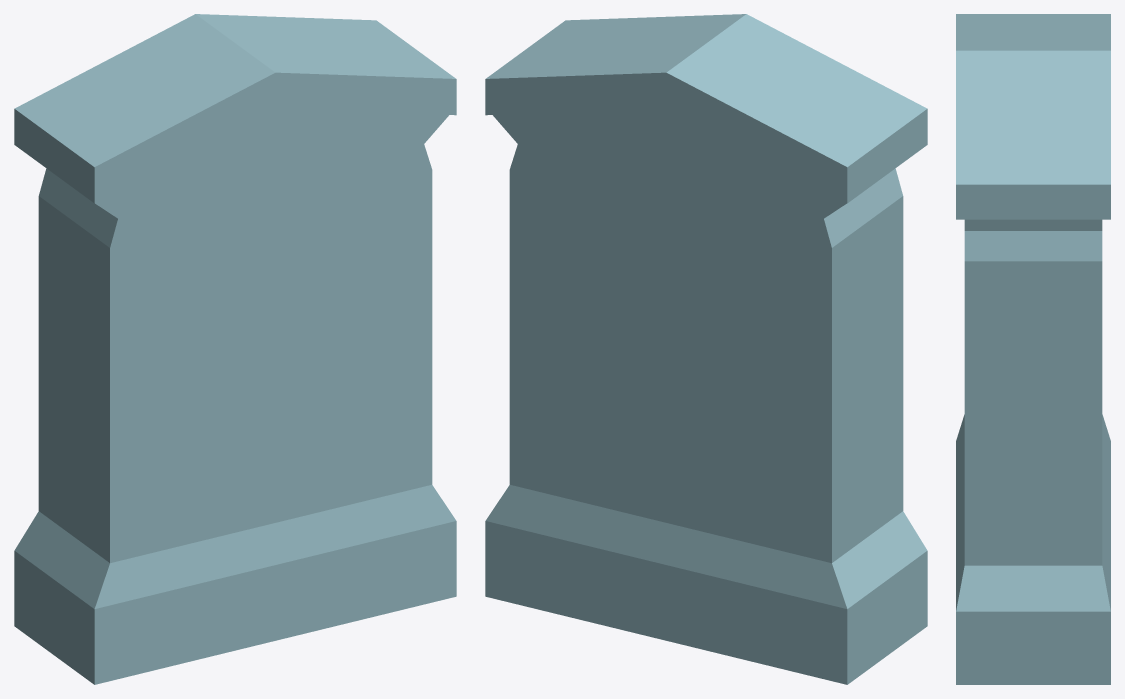
The model's file is gravestoneRoof.obj.
3 renders of one model, left to right at view 1: azimuth 30°, elevation 25°; view 2: azimuth 150°, elevation 25°; view 3: azimuth 270°, elevation 25°, orthographic. The views are drawn at different scales.
Visible parts, largest first — view 1: gravestoneRoof; view 2: gravestoneRoof; view 3: gravestoneRoof.
Boxes of the visible parts, x1=… form: gravestoneRoof: x1=14, y1=14, x2=456, y2=684; gravestoneRoof: x1=485, y1=14, x2=927, y2=684; gravestoneRoof: x1=956, y1=14, x2=1110, y2=684.
Size of the model in its own units: 0.39 by 0.585 by 0.1495.
